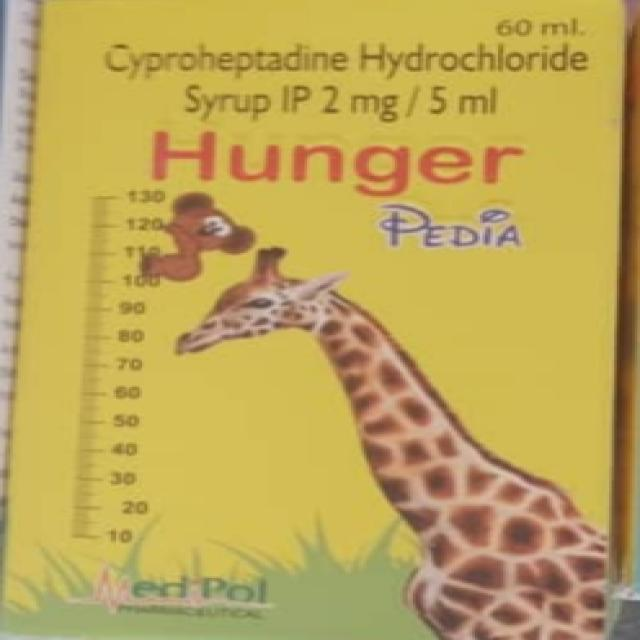drug-name: (140, 125, 534, 255)
